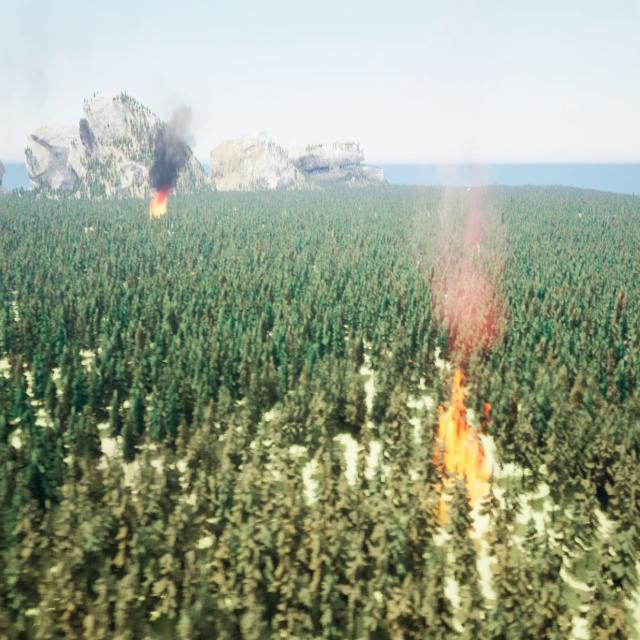fire: (435, 369, 491, 496), (147, 190, 168, 214)
smoke: (410, 149, 510, 357), (150, 106, 197, 191)
